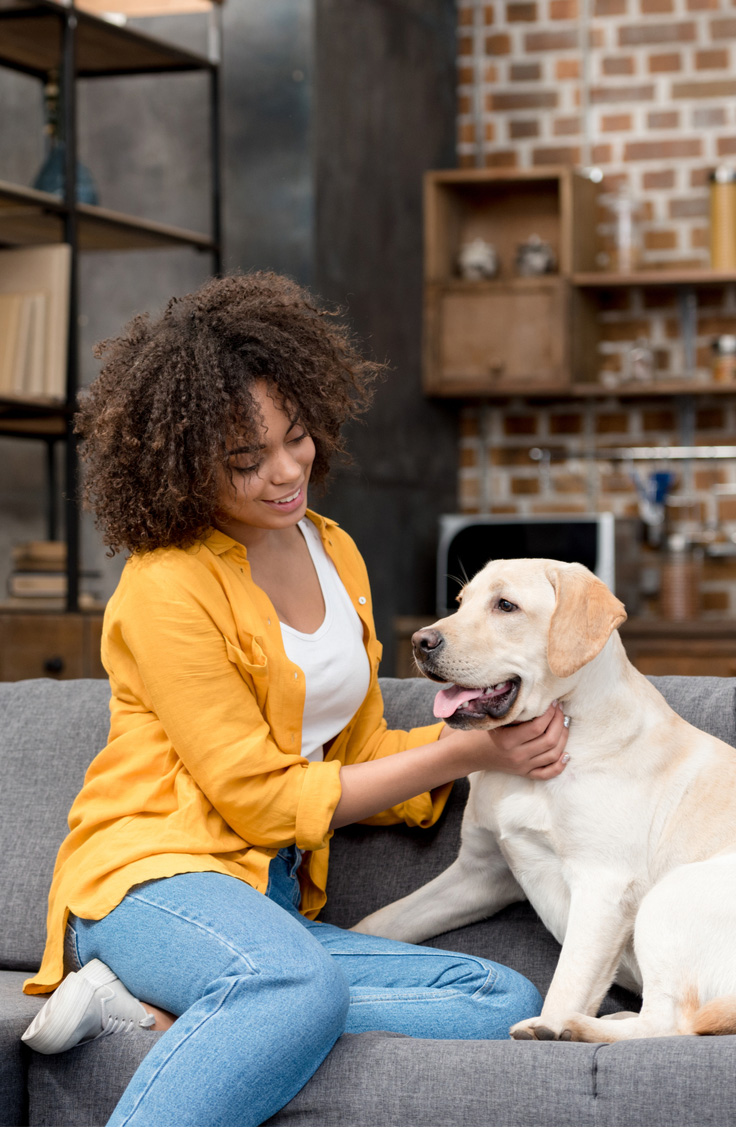Dog: (387, 523, 729, 1033)
Person: (73, 261, 435, 1105)
